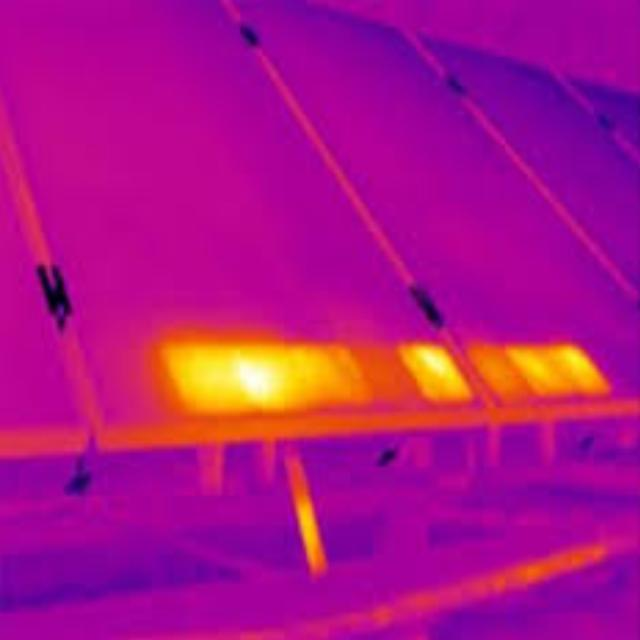hotspot group: (147, 325, 477, 427), (465, 337, 617, 409)
panel with hotspots: (0, 0, 493, 458), (231, 2, 640, 427)
